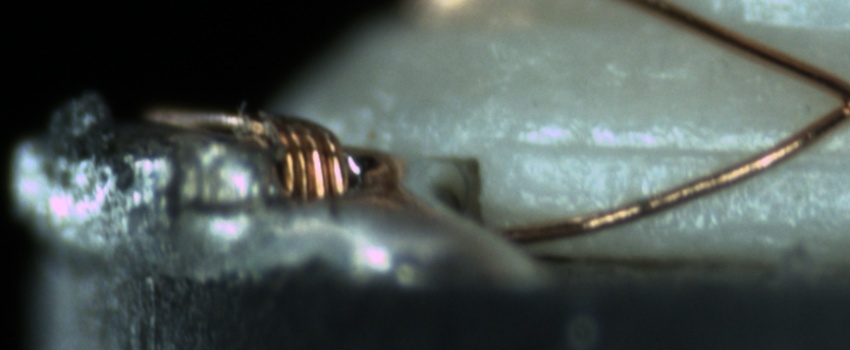CL: (808, 65, 850, 134)
DL: (506, 121, 850, 178)
TE: (147, 99, 359, 208)
